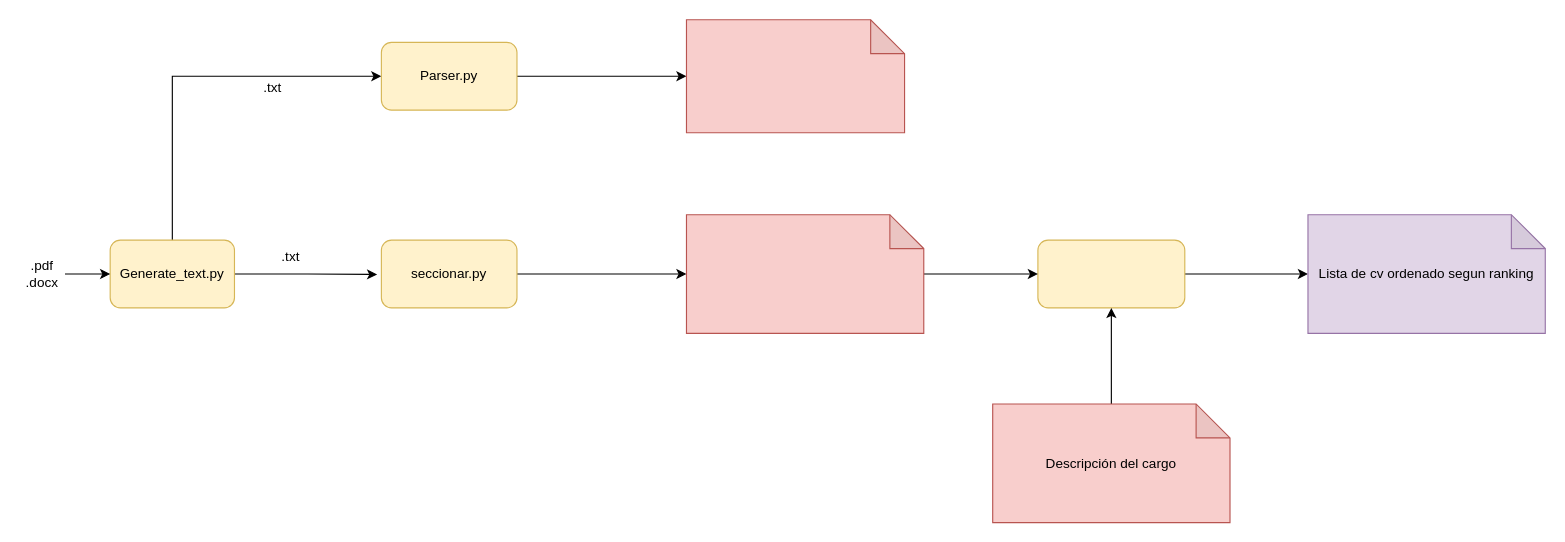
Some shapes in this 1565 by 542 pixel diagram are drawn without their labels. Each missing label, with the centre of its shape:
JSON: 1.Extras 2. Educación 3. Experiencia 4. Skills: the point at 804,273
JSON: Número, mail, grado más alto, Linkedin, skills.: the point at 795,76
ranking.py: the point at 1111,273
